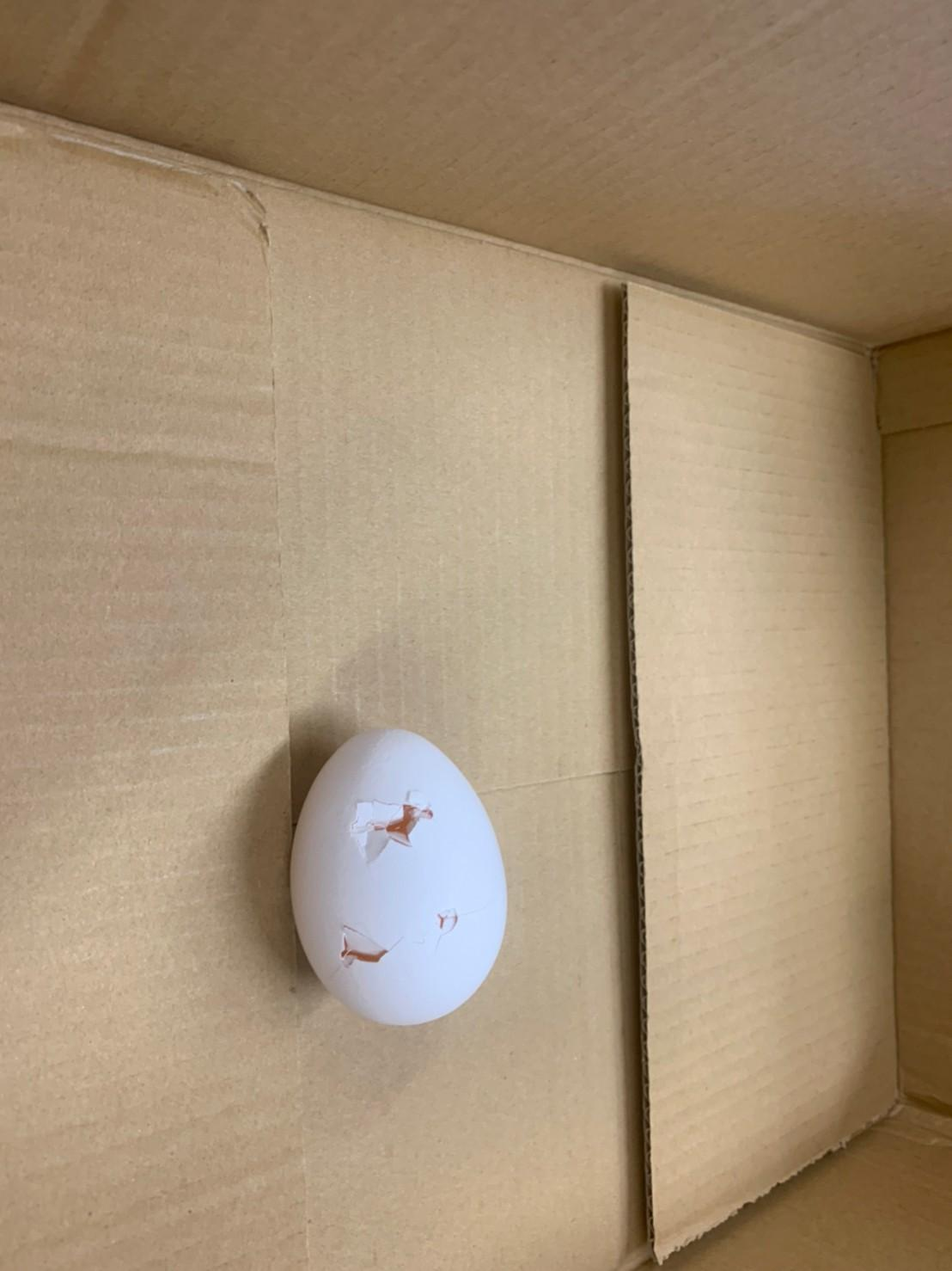egg: (287, 721, 514, 1033)
